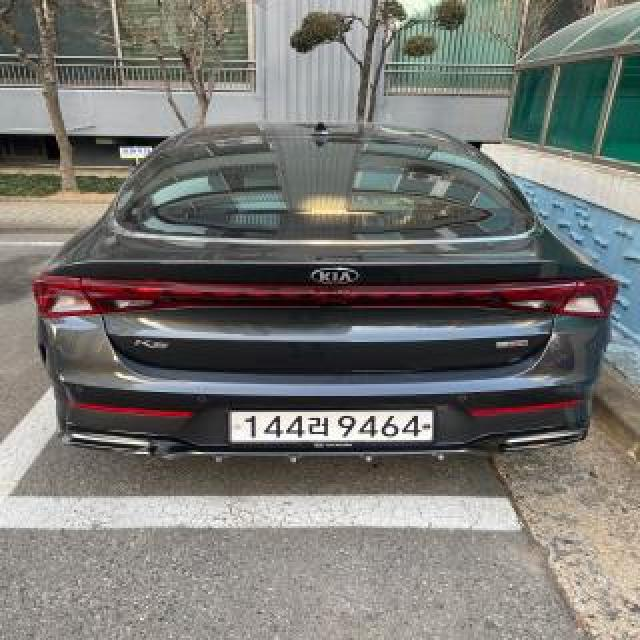car: (26, 112, 619, 484)
illegal_plate: (227, 404, 438, 456)
